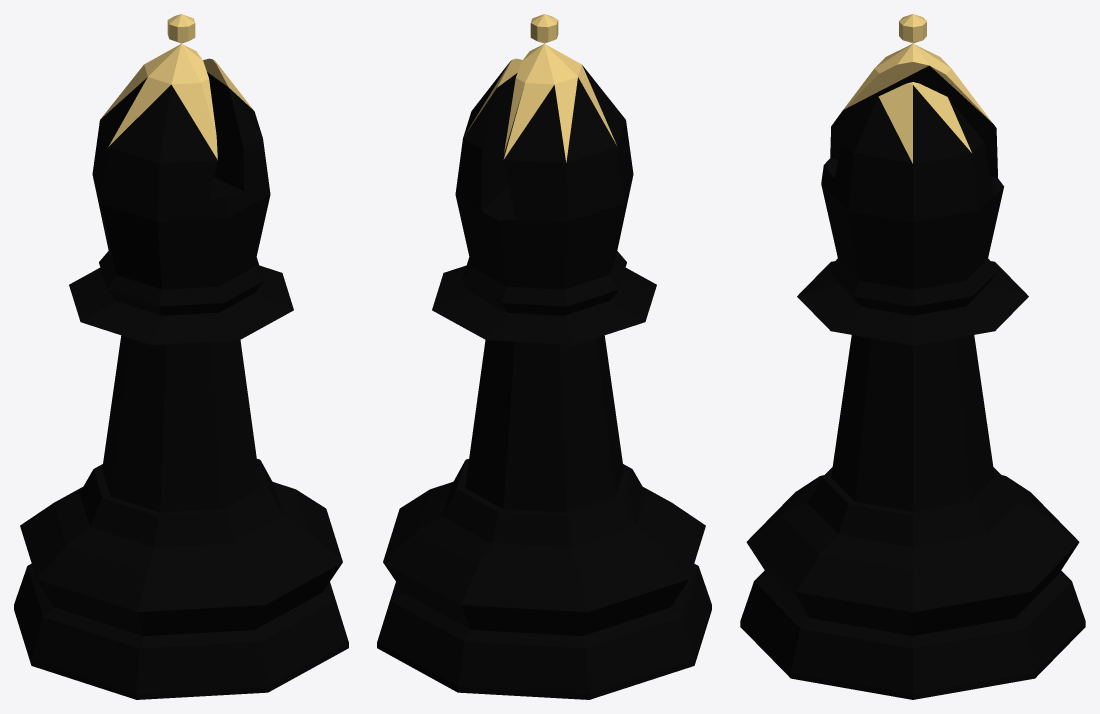
Rendered from gercek5_b_b.glb.
The picture shows the model from 3 angles, left to right: view 1: azimuth 30°, elevation 25°; view 2: azimuth 150°, elevation 25°; view 3: azimuth 270°, elevation 25°; orthographic projection.
Parts seen in each view (by area): view 1: b_b; view 2: b_b; view 3: b_b.
Part boxes in pixels (x1=…): b_b: x1=14, y1=14, x2=348, y2=699; b_b: x1=377, y1=14, x2=711, y2=699; b_b: x1=740, y1=14, x2=1085, y2=699.
Bounding box in the file's own units: 0.4594 × 0.9 × 0.4594.
